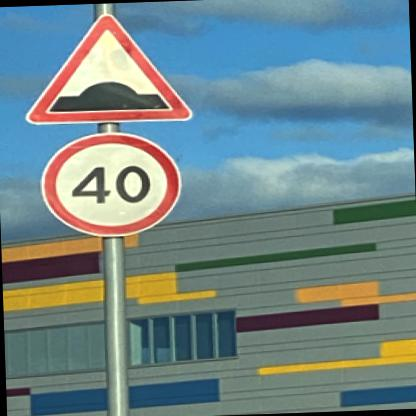speedlimit: (37, 131, 180, 239)
